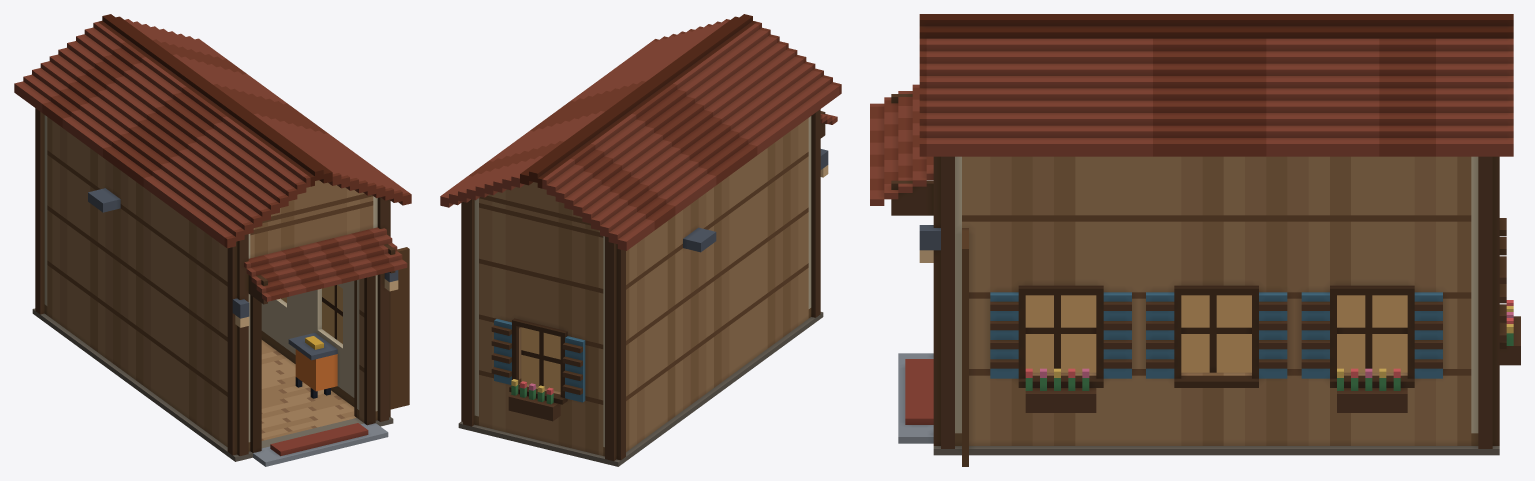
File: factory_e1_l3.glb
3 renders of one model, left to right at view 1: azimuth 30°, elevation 25°; view 2: azimuth 150°, elevation 25°; view 3: azimuth 270°, elevation 25°, orthographic. The views are drawn at different scales.
Parts seen in each view (by area): view 1: CutRoof, CutNX, Base, CutPZ, CutPX, CutNZ; view 2: CutRoof, CutNZ, CutNX, Base, CutPZ; view 3: CutPX, CutRoof, Base, CutPZ, CutNZ.
Boxes of the visible parts, left/top/right/bottom form: CutRoof: left=14, top=14, right=411, bottom=248; CutNX: left=47, top=117, right=227, bottom=405; Base: left=32, top=188, right=409, bottom=466; CutPZ: left=227, top=196, right=409, bottom=414; CutPX: left=268, top=281, right=354, bottom=365; CutNZ: left=35, top=108, right=47, bottom=273; CutRoof: left=440, top=14, right=841, bottom=250; CutNZ: left=461, top=198, right=625, bottom=419; CutNX: left=626, top=118, right=808, bottom=410; Base: left=458, top=227, right=823, bottom=466; CutPZ: left=808, top=109, right=837, bottom=276; CutPX: left=962, top=156, right=1471, bottom=400; CutRoof: left=919, top=14, right=1513, bottom=156; Base: left=898, top=352, right=1520, bottom=466; CutPZ: left=870, top=84, right=968, bottom=409; CutNZ: left=1471, top=156, right=1520, bottom=391.
Size of the model in its own units: 4.5 by 6 by 9.2.
